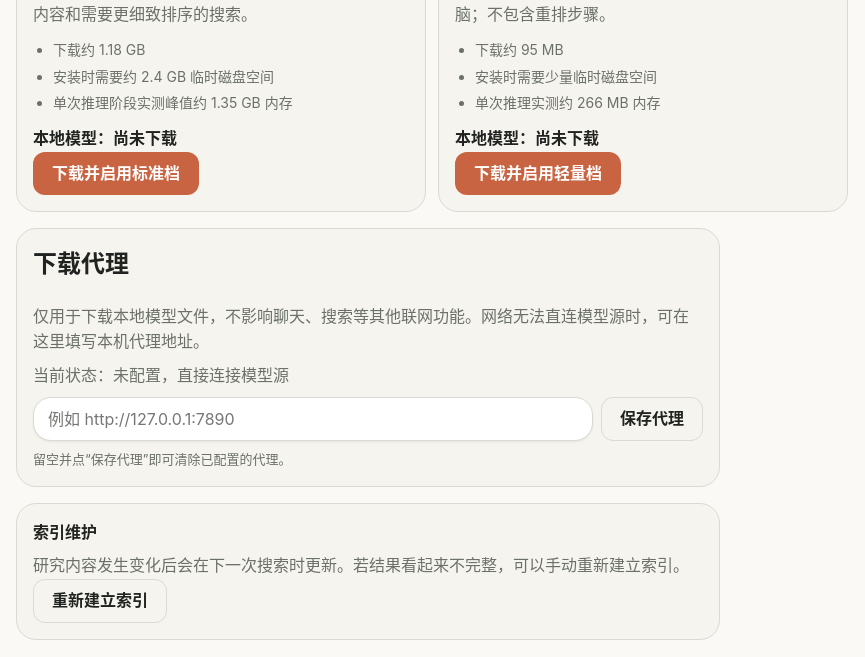
it: SemanticSearchSettingsPage 下载代理与源不可达提示 › 保存代理发出 set-download-proxy 命令并回显脱敏出口
The width and height of the screenshot is (865, 657).
(page scrolled)
Check: the text "当前状态：未配置，直接连接模型源" is shown, box [33,365,289,385]
Type "http://user:secret@127.0.0.1:7890" into the field named "下载代理地址" at (313, 419), box [33,397,593,441]
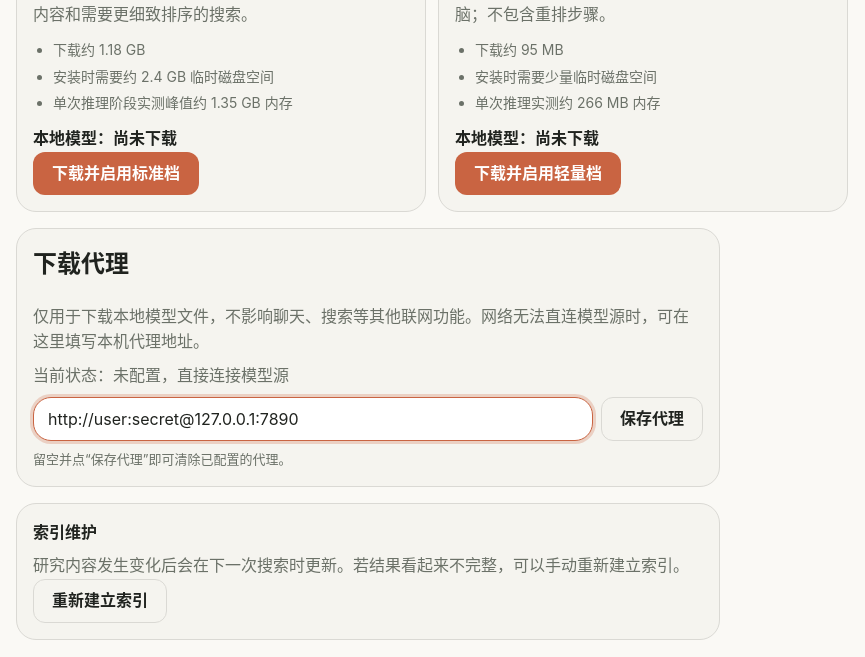
Click the button "保存代理" at (652, 419), box [601,397,703,441]
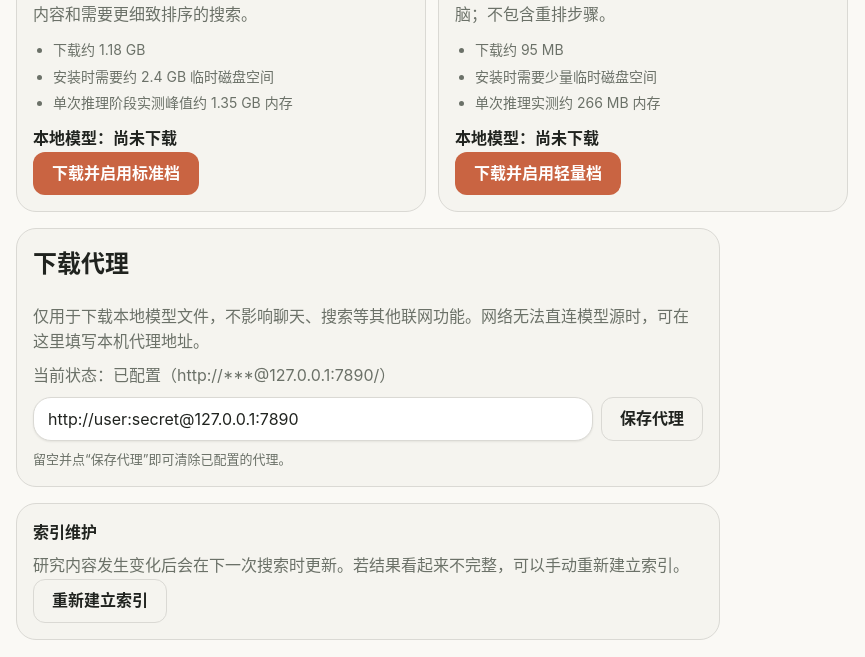
Check: the text "当前状态：已配置（http://***@127.0.0.1:7890/）" is shown, box [33,365,395,385]
